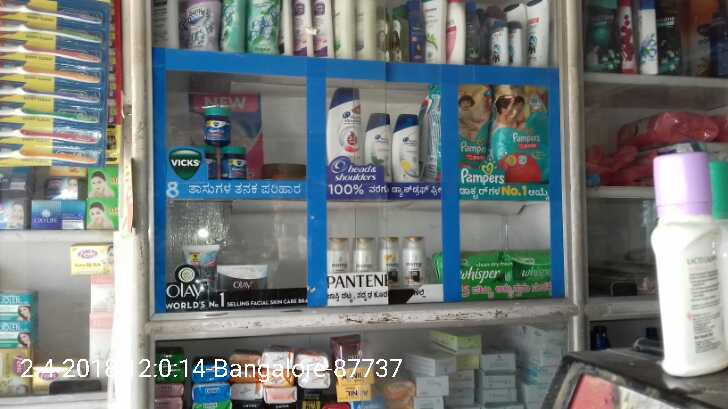oralcare: (1, 1, 106, 167)
vicks: (192, 105, 246, 180)
